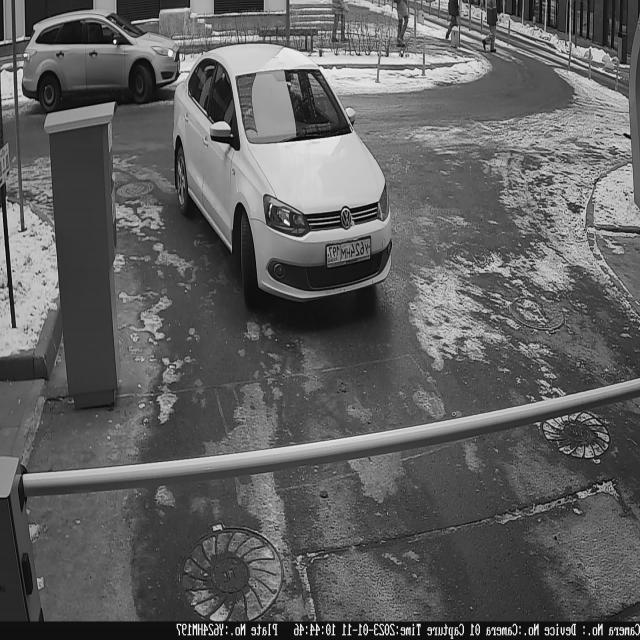car-plate-numbers: (323, 229, 377, 272)
